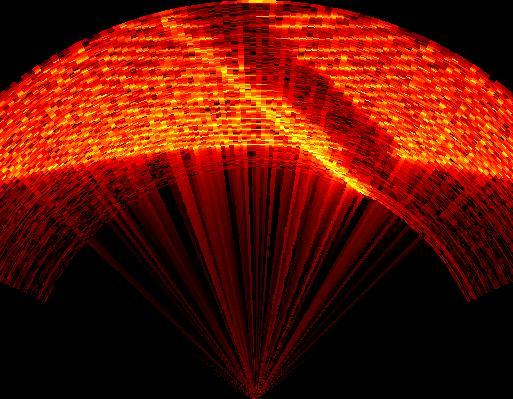pipe: (184, 2, 403, 183)
